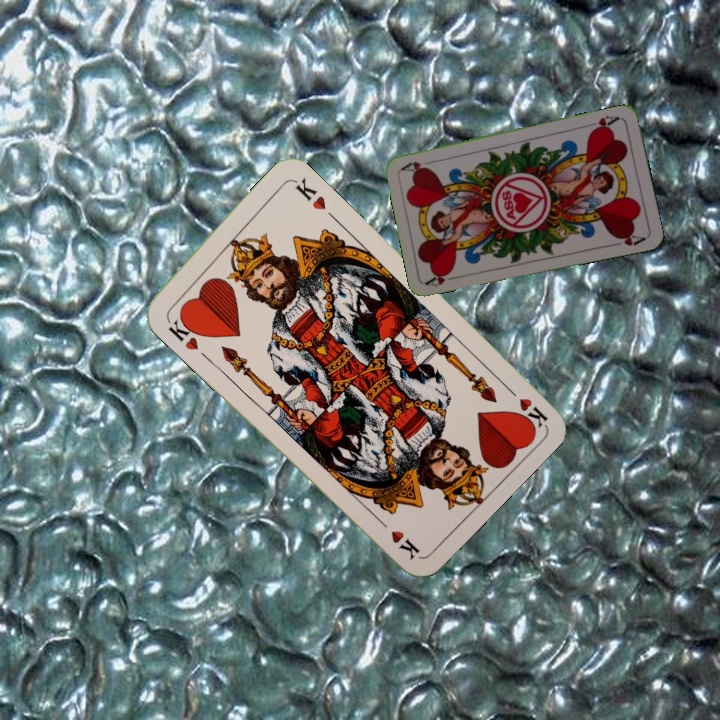HA: (583, 112, 622, 135), (423, 267, 463, 289)
HK: (499, 380, 550, 430), (162, 310, 207, 353)
